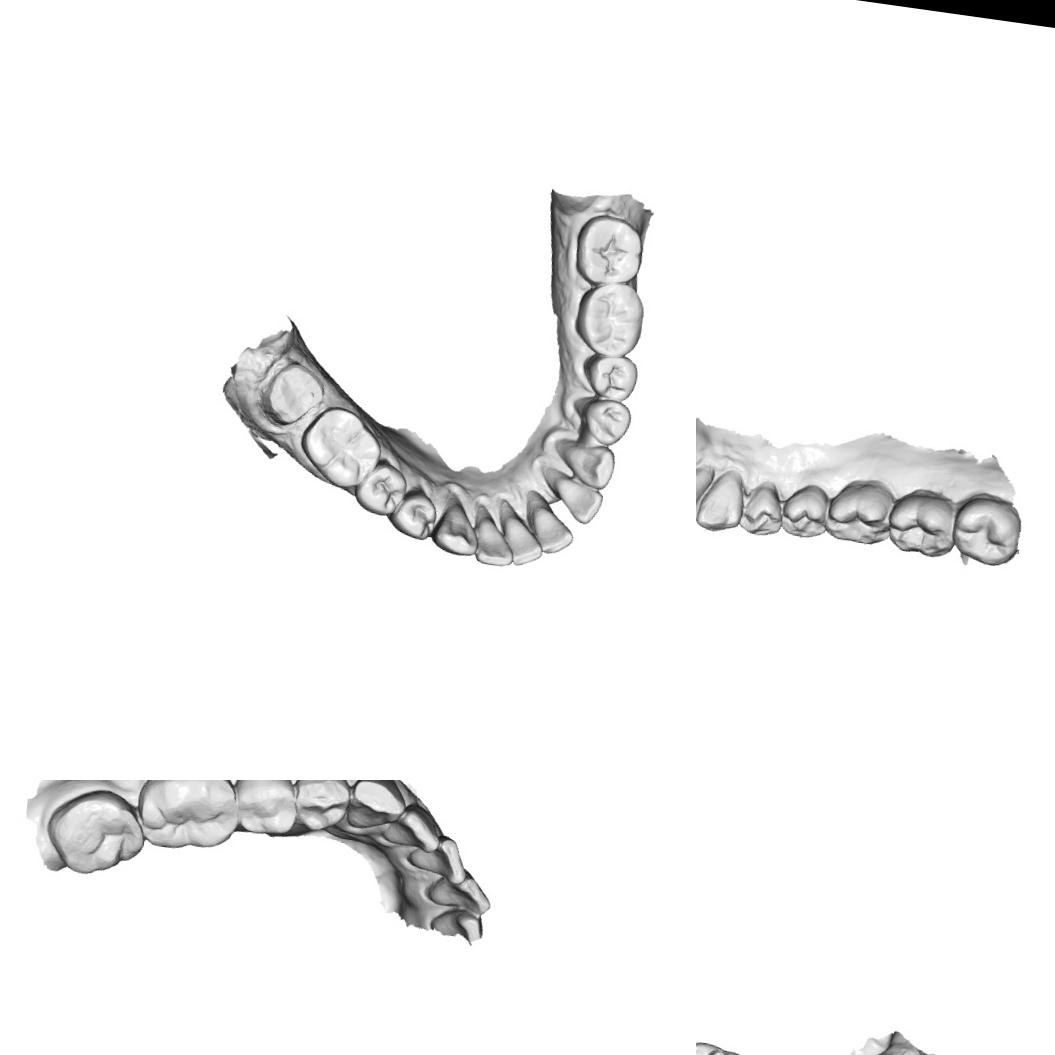canine: (342, 780, 410, 839), (549, 435, 620, 491), (696, 466, 749, 536), (427, 496, 485, 559)
crown: (252, 352, 332, 434)
incisor: (536, 465, 608, 527), (424, 866, 498, 919), (404, 830, 472, 885), (380, 799, 443, 856), (468, 502, 520, 568), (526, 503, 579, 558), (498, 511, 547, 569), (696, 461, 717, 524)
molar: (45, 780, 156, 886), (132, 780, 244, 858), (294, 402, 388, 494), (954, 492, 1042, 574), (570, 276, 650, 361), (570, 211, 648, 292), (886, 484, 961, 563), (822, 475, 897, 548)
premolar: (225, 780, 306, 841), (350, 454, 413, 520), (567, 392, 634, 449), (578, 348, 643, 406), (289, 780, 355, 837), (384, 484, 442, 543), (778, 479, 832, 541), (738, 476, 788, 540)
